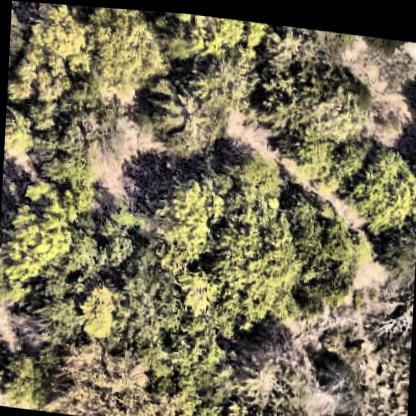tree-top: (204, 185, 302, 323), (0, 176, 87, 297), (144, 58, 235, 156), (75, 4, 165, 95), (268, 58, 370, 138), (142, 167, 222, 268), (115, 252, 197, 348), (58, 84, 147, 171), (65, 341, 164, 416), (243, 312, 316, 403), (345, 132, 416, 224), (149, 9, 267, 61), (15, 266, 87, 343), (60, 200, 128, 276), (266, 18, 346, 80), (164, 309, 218, 399), (304, 341, 366, 416), (5, 41, 74, 106), (0, 339, 58, 409), (281, 114, 339, 180), (72, 273, 124, 344), (171, 255, 228, 314), (31, 2, 87, 56), (3, 98, 32, 161), (252, 395, 315, 416), (193, 396, 227, 416)
